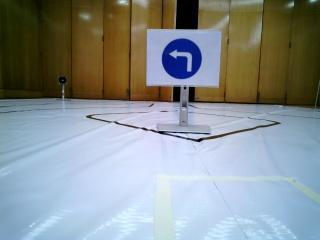left: (150, 32, 211, 87)
